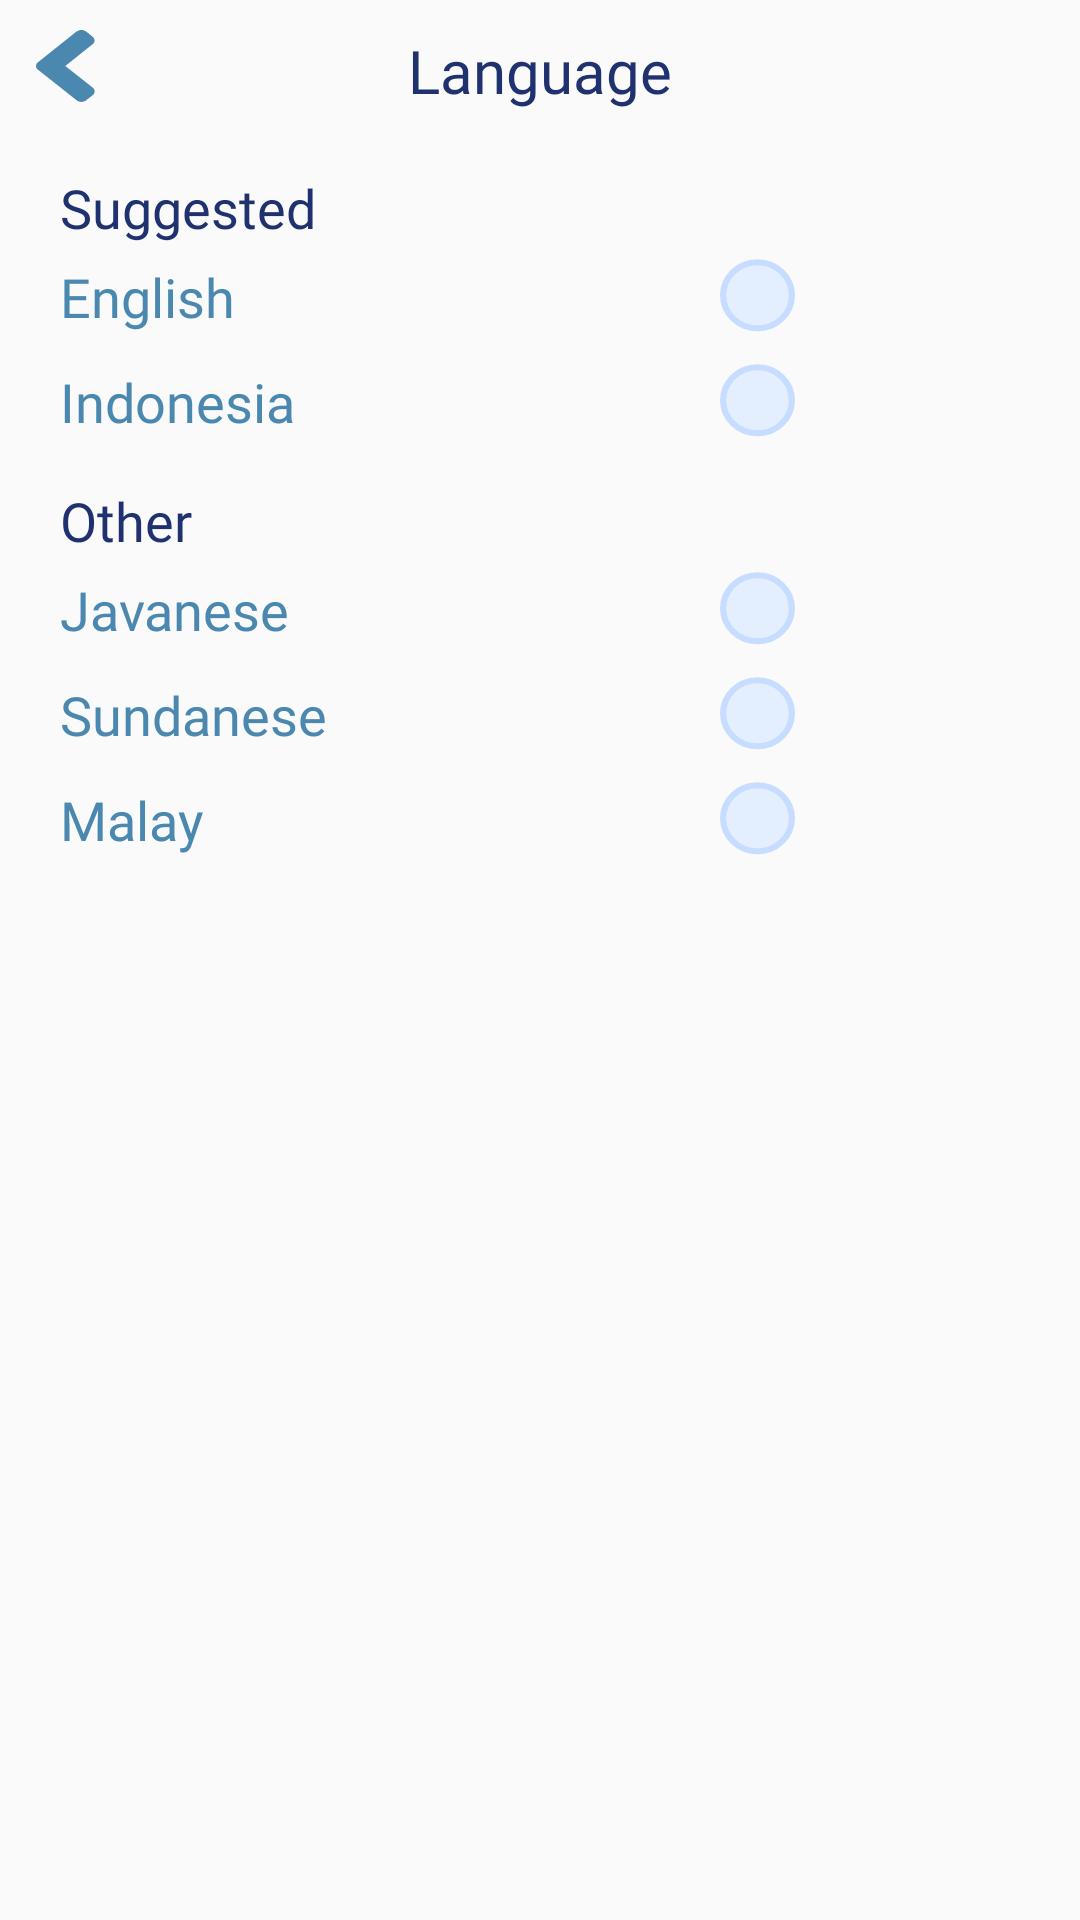

Where icons sit on this 1080×1920 app screen, as [x1, y1, x2, y2]:
back arrow: [36, 30, 95, 102]
